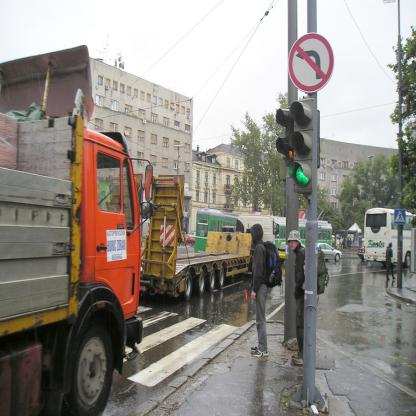Car: (317, 242, 342, 260), (356, 247, 366, 261), (184, 236, 196, 246), (187, 231, 196, 239), (182, 231, 186, 235)
Truck: (14, 108, 147, 415), (105, 172, 280, 304)
